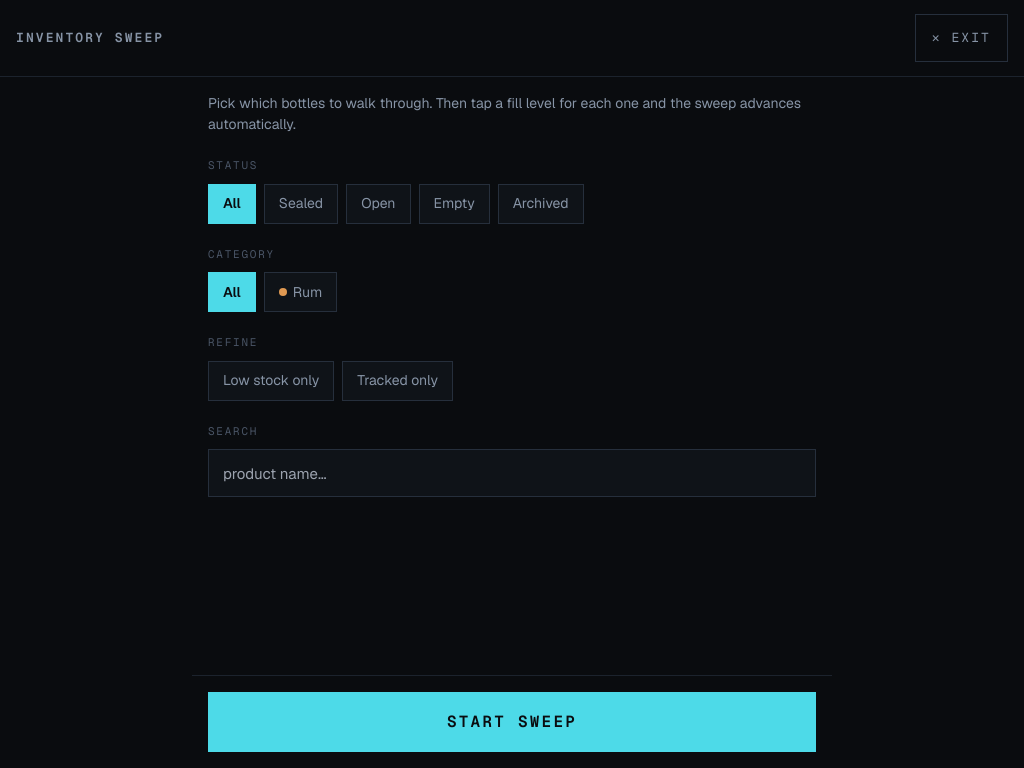
Test case: <Sweep> — filter → fractional tap → advance › selects a filter, taps 75%, and advances to the next bottle
FILTER — pick the "Rum" category chip, then start the sweep.
Click the button "Rum".
click(301, 292)  # box [264,272,337,312]
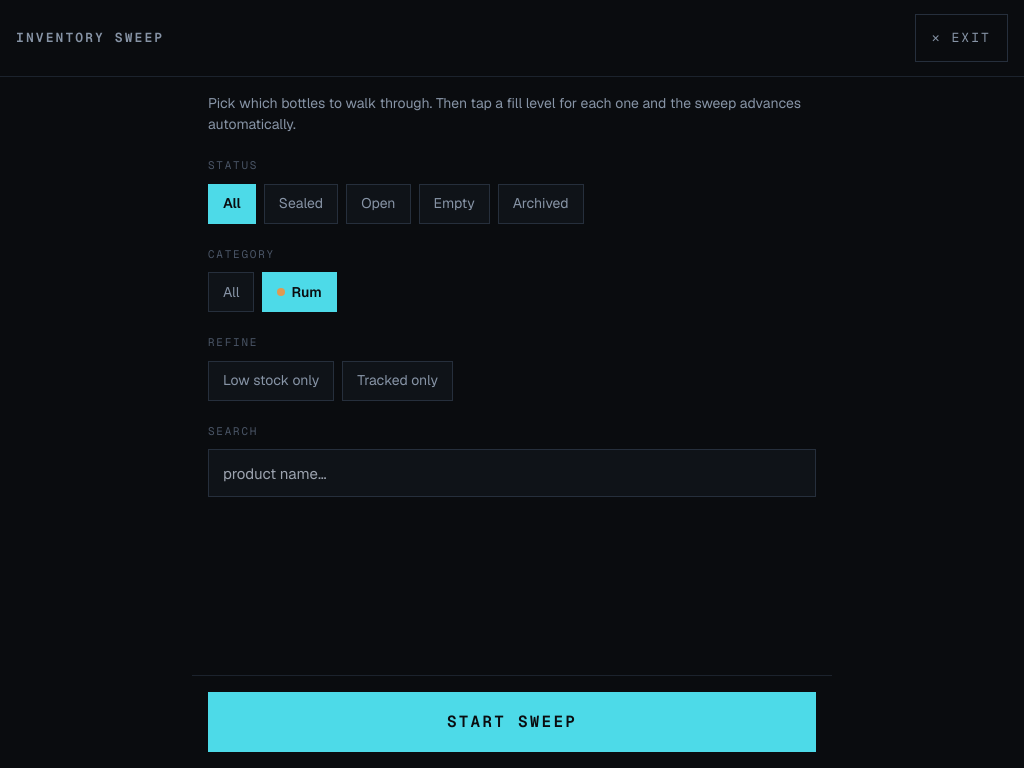
Click the button "START SWEEP".
click(512, 722)  # box [208,692,816,752]
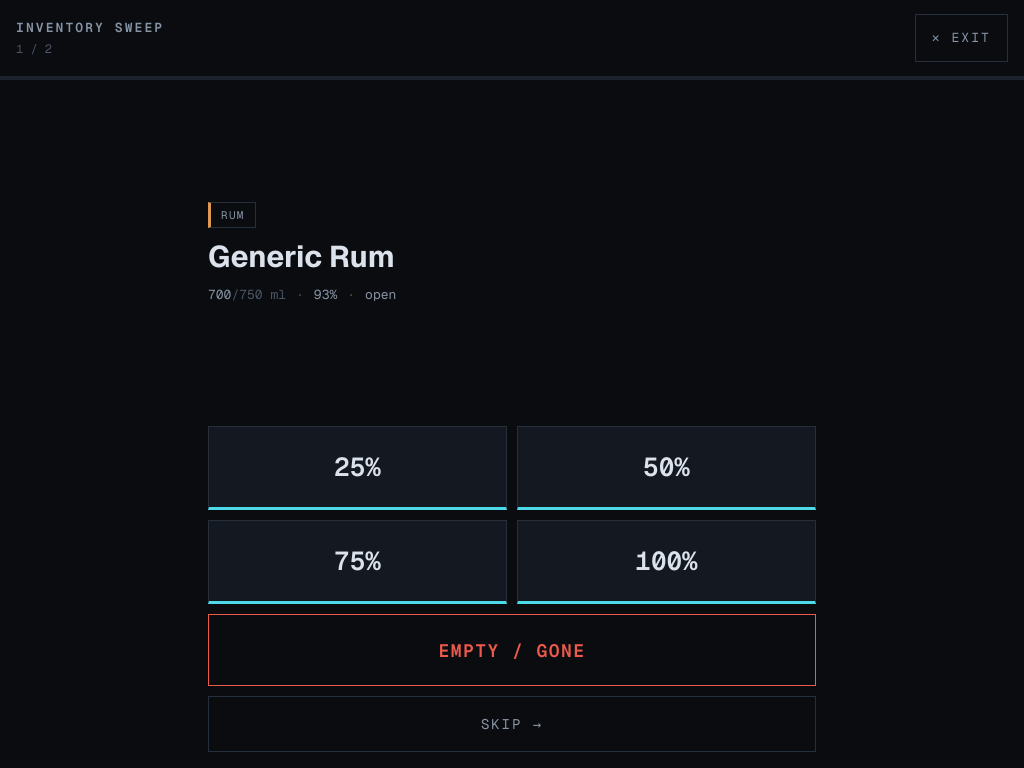
expect the text "Aged Rum" is not shown: met
expect the text "Generic Rum" is shown: met, box [208,237,395,276]
SWEEP — tap a fractional fill level (75%).
Click the button "75%".
click(358, 562)  # box [208,520,507,604]
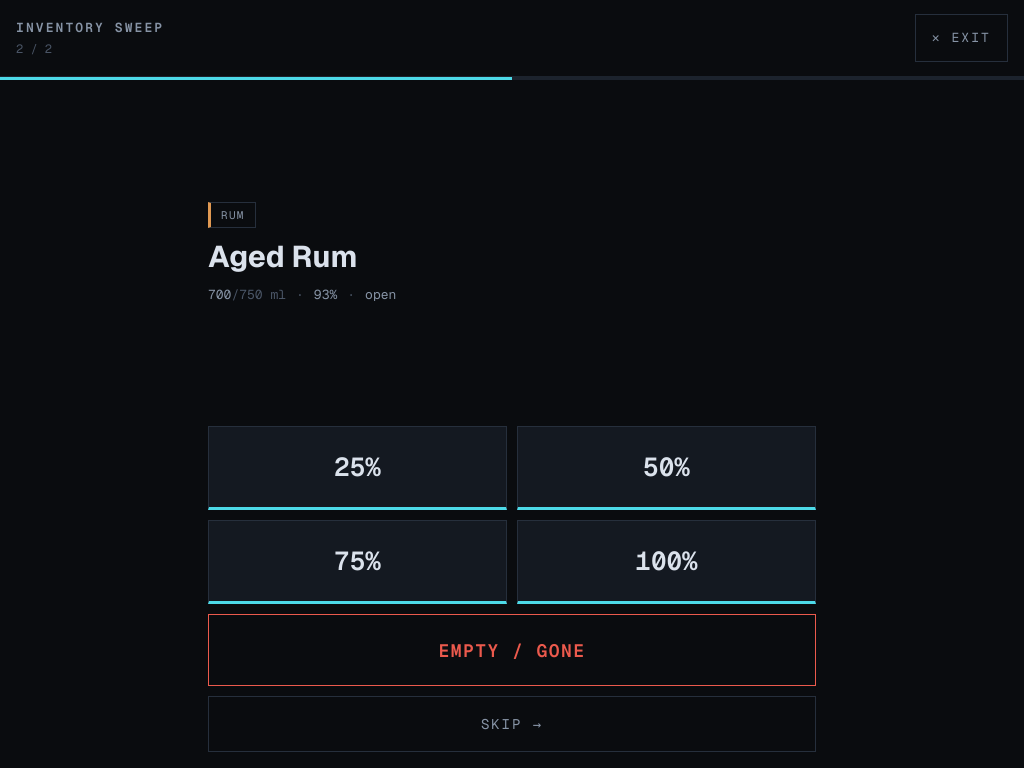
expect the text "Aged Rum" is shown: met, box [208,237,357,276]
expect the text "Generic Rum" is gone: met
